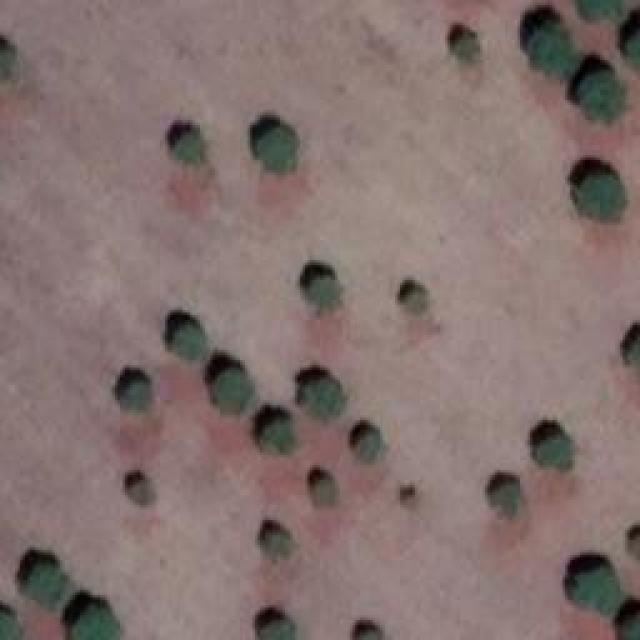Tree: (523, 18, 568, 78), (575, 70, 623, 125), (575, 173, 623, 223), (575, 563, 620, 616), (258, 123, 301, 176), (300, 375, 345, 423), (210, 370, 255, 415), (25, 560, 65, 605), (170, 318, 210, 361), (75, 602, 115, 640), (533, 435, 576, 470), (257, 417, 295, 455), (120, 375, 153, 413), (173, 130, 206, 163), (130, 478, 158, 511), (308, 275, 338, 305), (355, 430, 383, 460), (490, 480, 518, 510), (580, 0, 618, 20), (263, 615, 293, 640), (268, 525, 293, 555), (625, 25, 640, 75), (455, 33, 480, 63), (0, 607, 22, 640), (400, 288, 428, 313), (0, 45, 18, 83), (313, 477, 333, 505), (625, 612, 640, 640)
